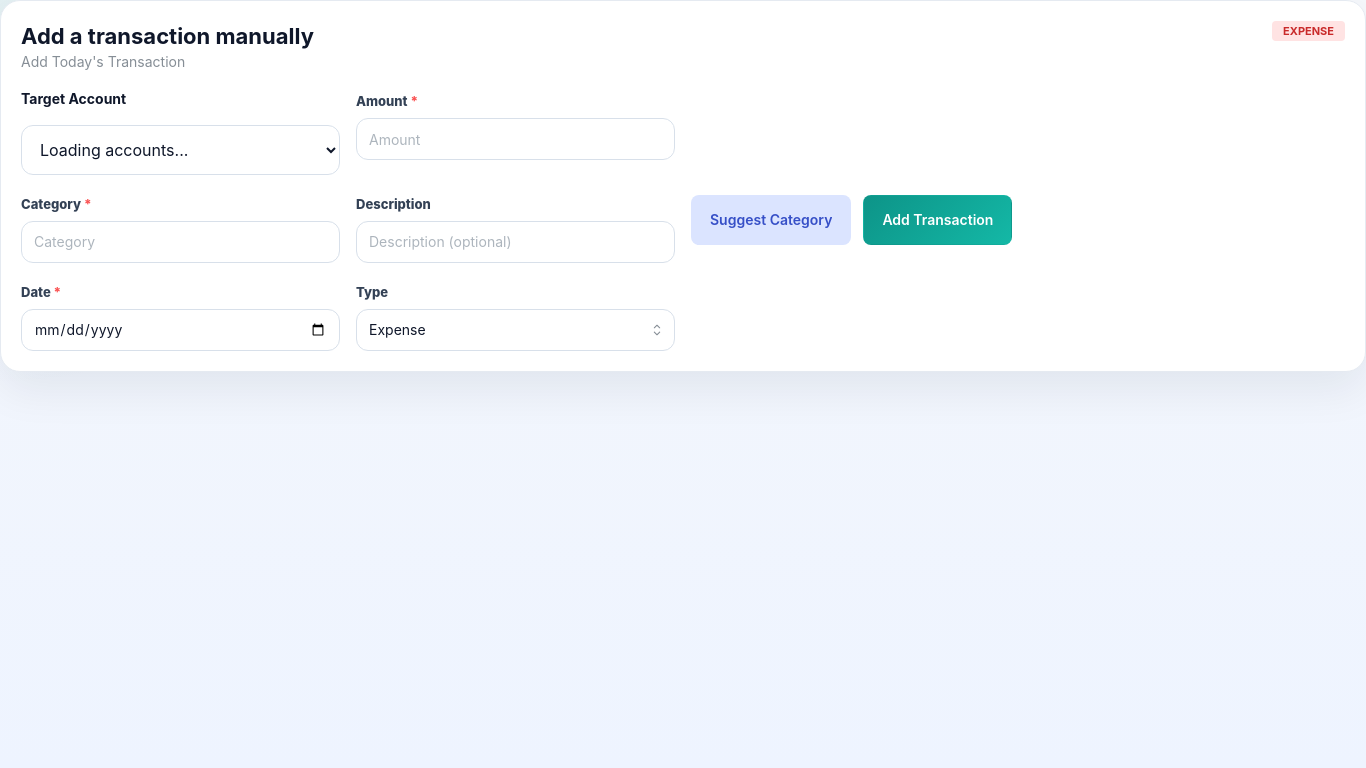
Scenario: TransactionForm › suggests a category from the current description and type
The image size is (1366, 768).
Type "Starbucks coffee" into the field with placeholder "Description (optional)" at coordinates (516, 242), box [356, 221, 675, 263]
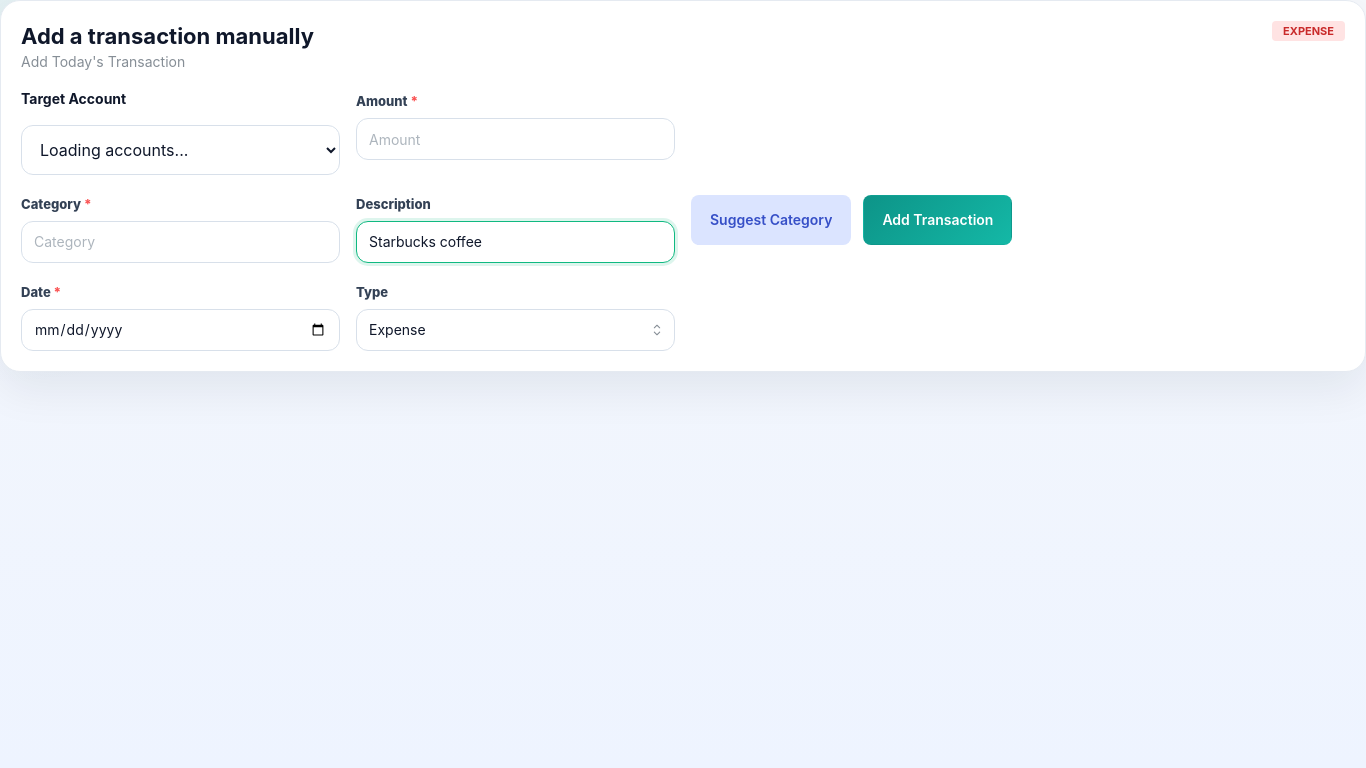
Click the button "Suggest Category" at coordinates (771, 220), box [691, 195, 851, 245]
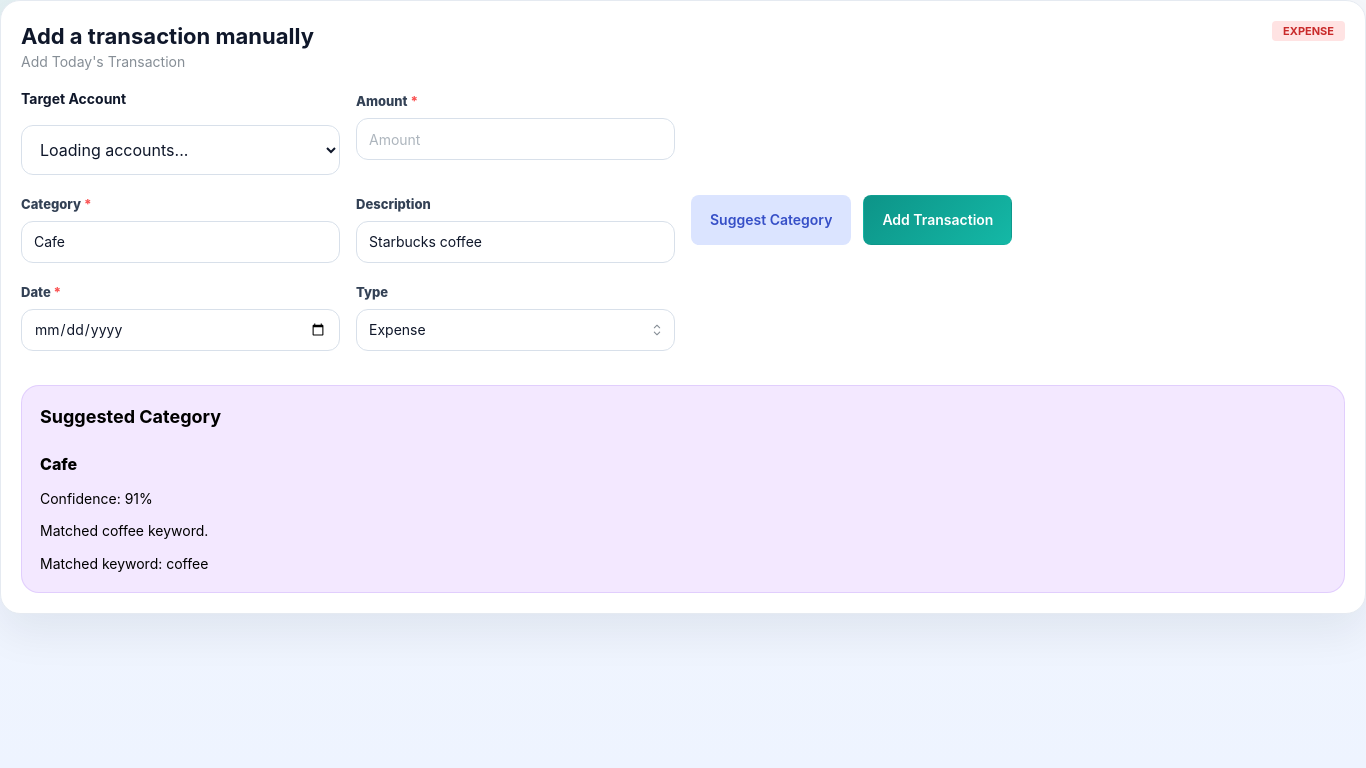
expect the dropdown with placeholder "Category" holds "Cafe": met, box [21, 221, 340, 263]
expect the text "Confidence: 91%" is shown: met, box [40, 490, 153, 507]
expect the text "Matched coffee keyword." is shown: met, box [40, 522, 208, 539]
